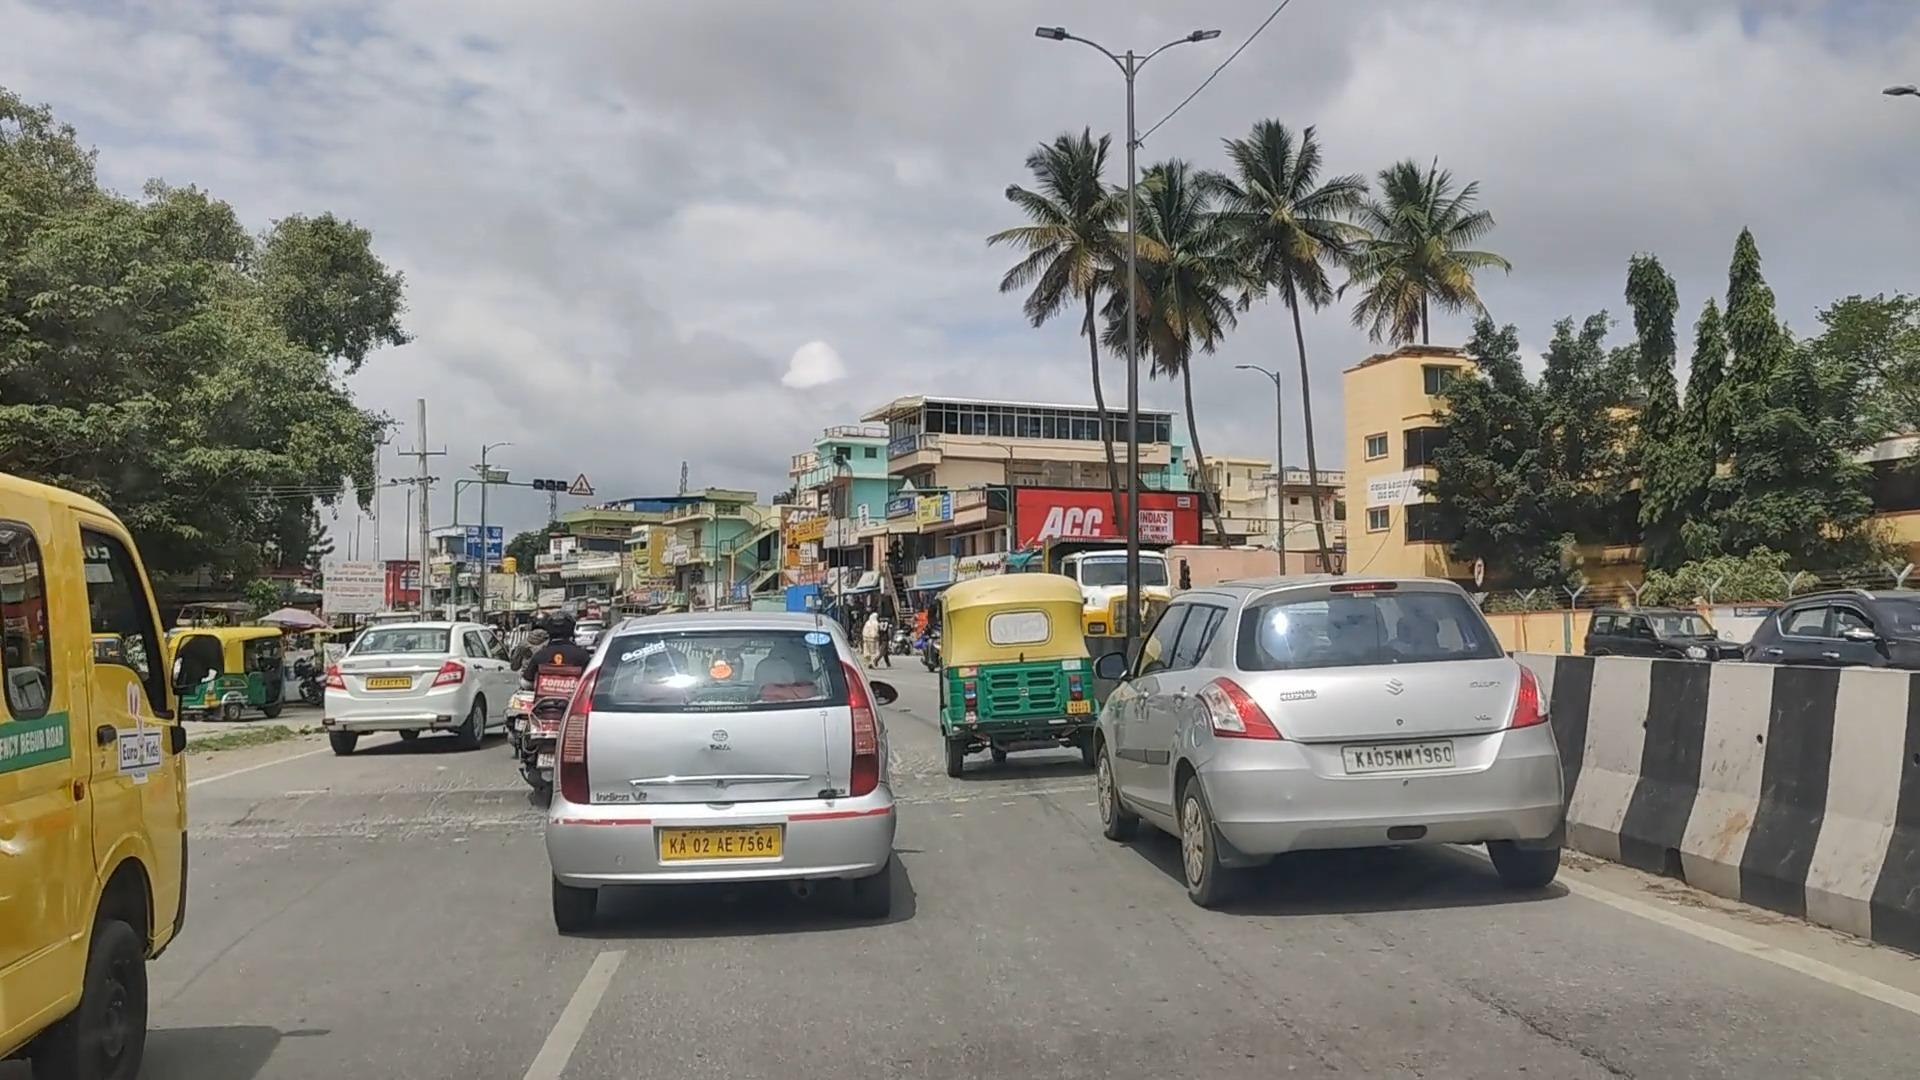LMV: (0, 438, 413, 1080), (1096, 575, 1577, 915), (549, 607, 894, 932), (931, 558, 1100, 777), (328, 597, 522, 767)
